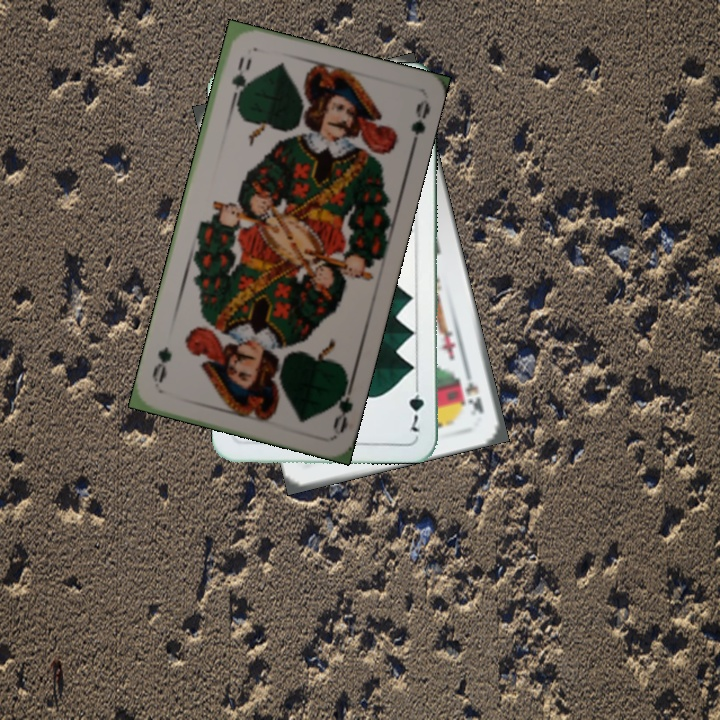G7: (405, 377, 426, 434)
GO: (327, 376, 357, 436), (227, 52, 254, 109)
SK: (460, 363, 486, 416)
